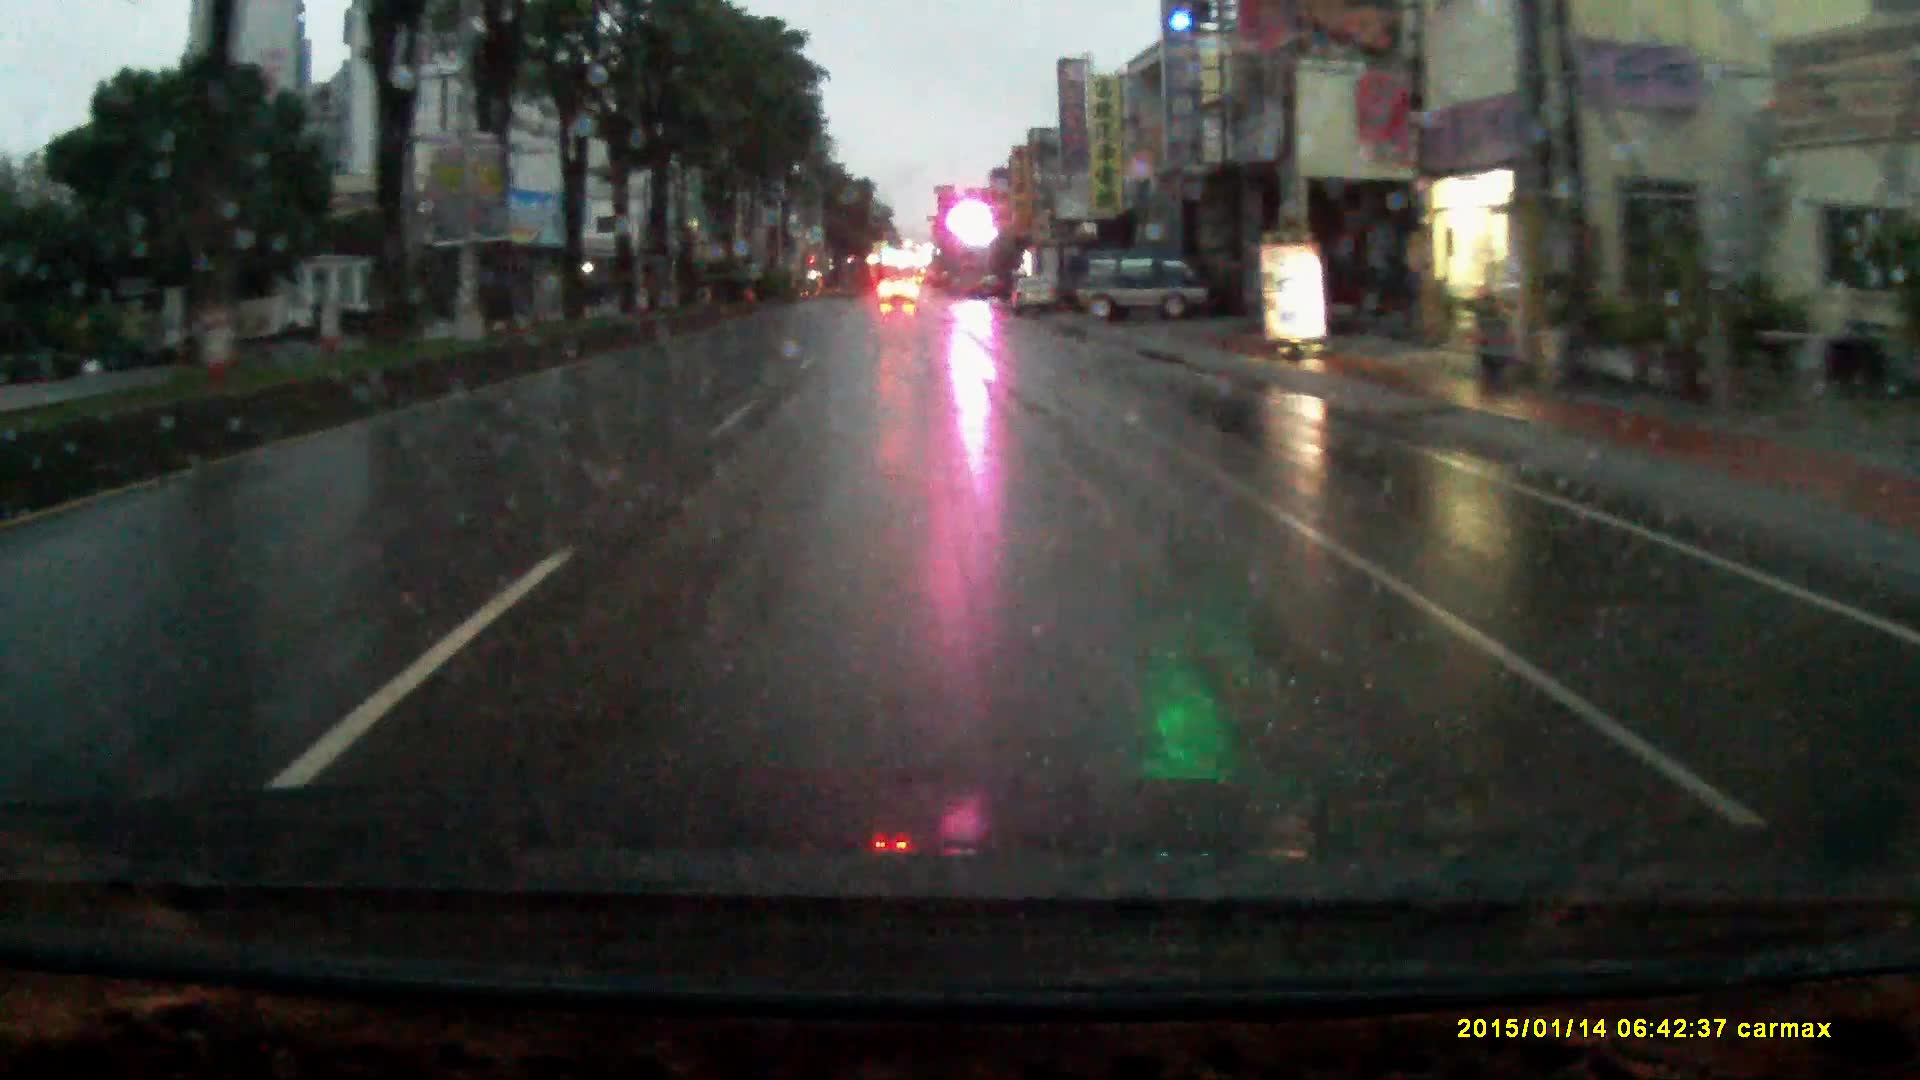vehicle: (1069, 247, 1216, 324), (1021, 245, 1087, 324), (1007, 276, 1062, 318), (878, 280, 920, 313)
